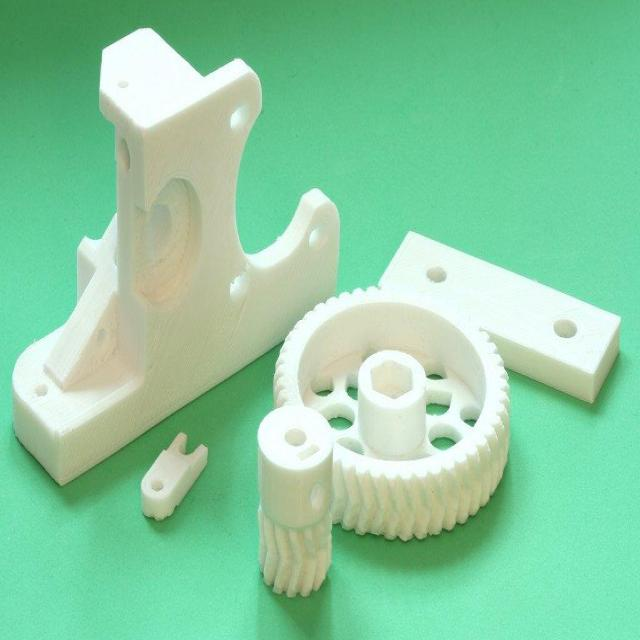Without deffect: (4, 5, 636, 628)
